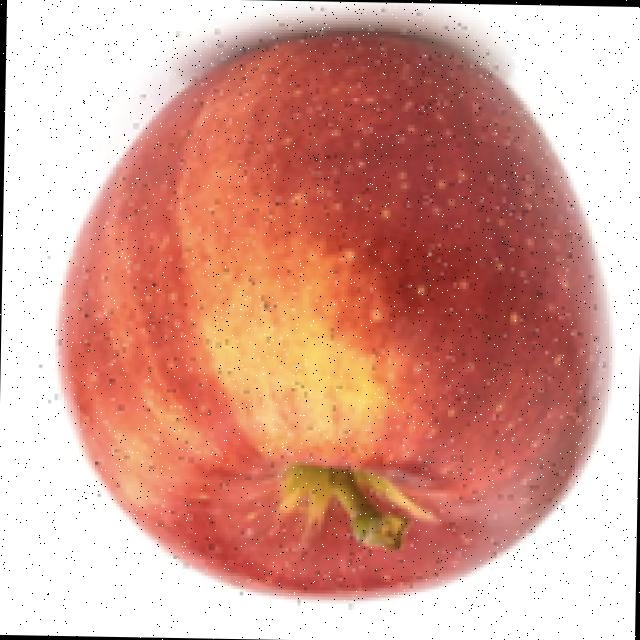apple: (46, 2, 621, 610)
